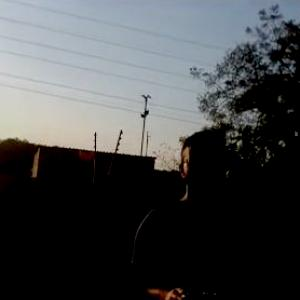follow: (120, 127, 254, 299)
